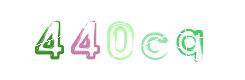0: (83, 0, 163, 80)
4: (9, 0, 89, 80), (45, 0, 125, 80)
C: (90, 0, 170, 80)
Q: (117, 0, 197, 80)
